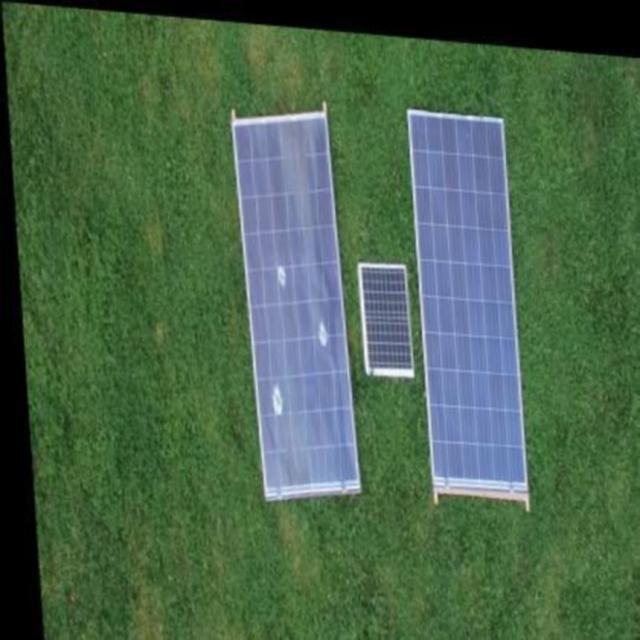soiled: (230, 108, 364, 504)
